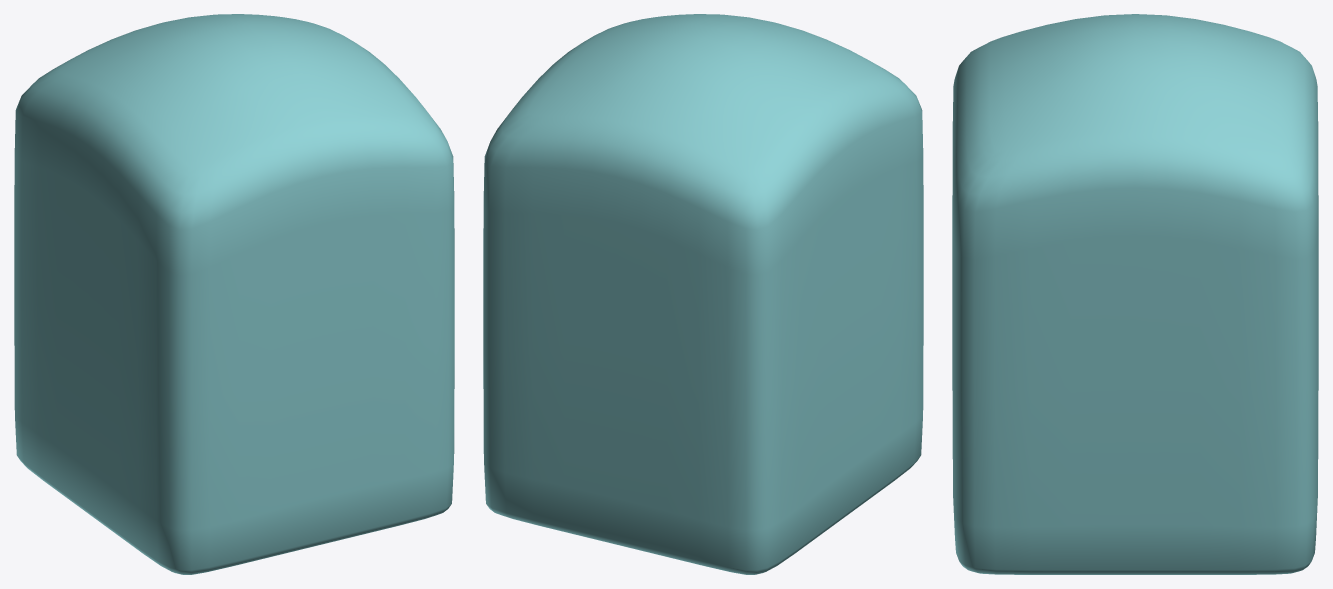
The model's file is mur_neige_04.fbx.
3 views of the same model, side by side, from view 1: azimuth 30°, elevation 25°; view 2: azimuth 150°, elevation 25°; view 3: azimuth 270°, elevation 25° (orthographic). The views are drawn at different scales.
Visible parts, largest first — view 1: Box009; view 2: Box009; view 3: Box009.
Boxes of the visible parts, bbox=[...] form: Box009: bbox=[14, 14, 454, 574]; Box009: bbox=[483, 14, 923, 574]; Box009: bbox=[952, 14, 1318, 574].
Size of the model in its own units: 541 by 792 by 561.
